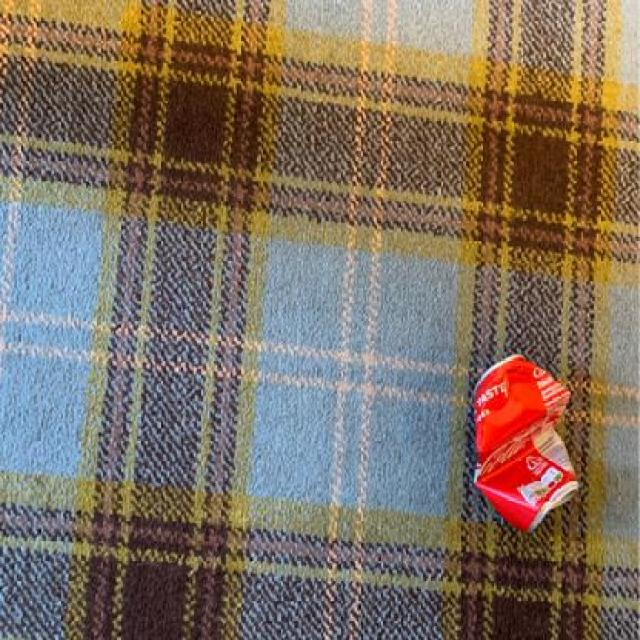Metal: (471, 354, 579, 534)
